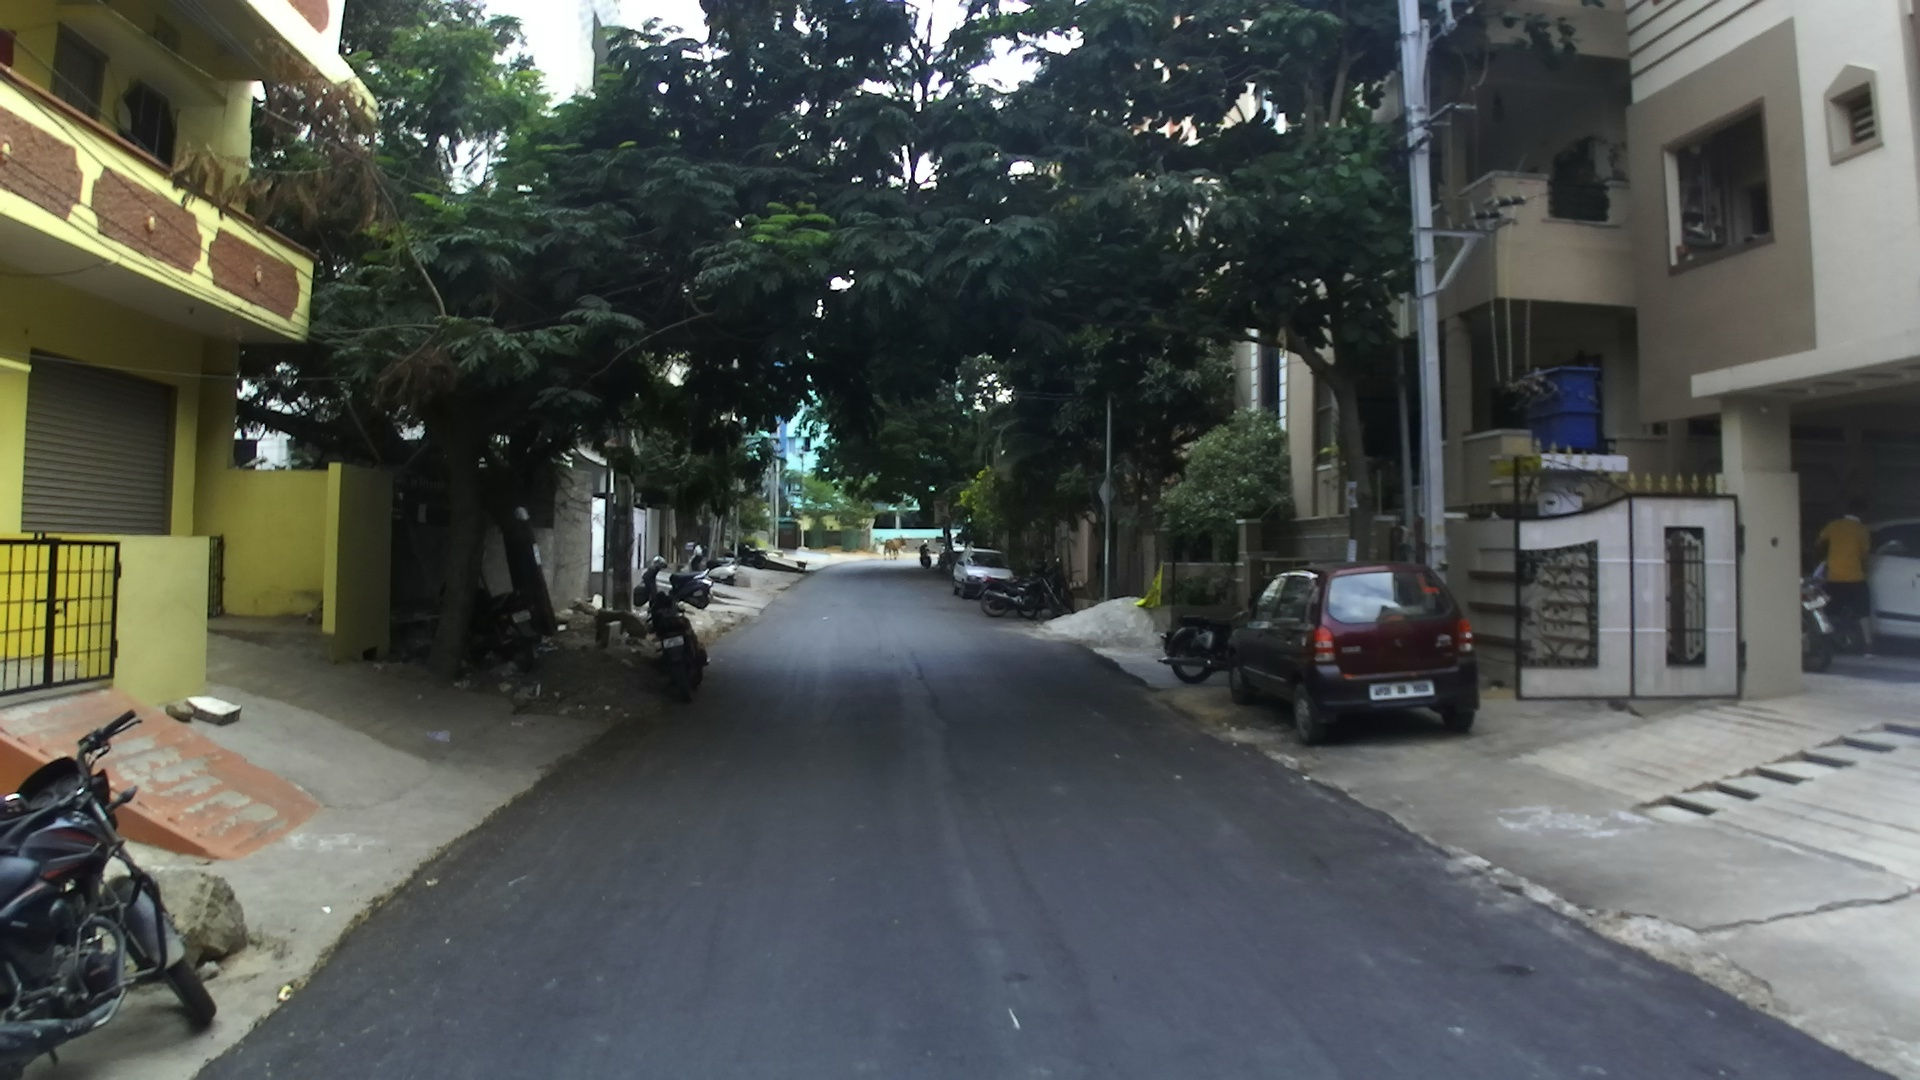vehicle: (0, 702, 225, 1073), (1217, 563, 1484, 742), (632, 568, 709, 700), (634, 608, 709, 702), (951, 551, 1014, 603), (986, 578, 1048, 618)
